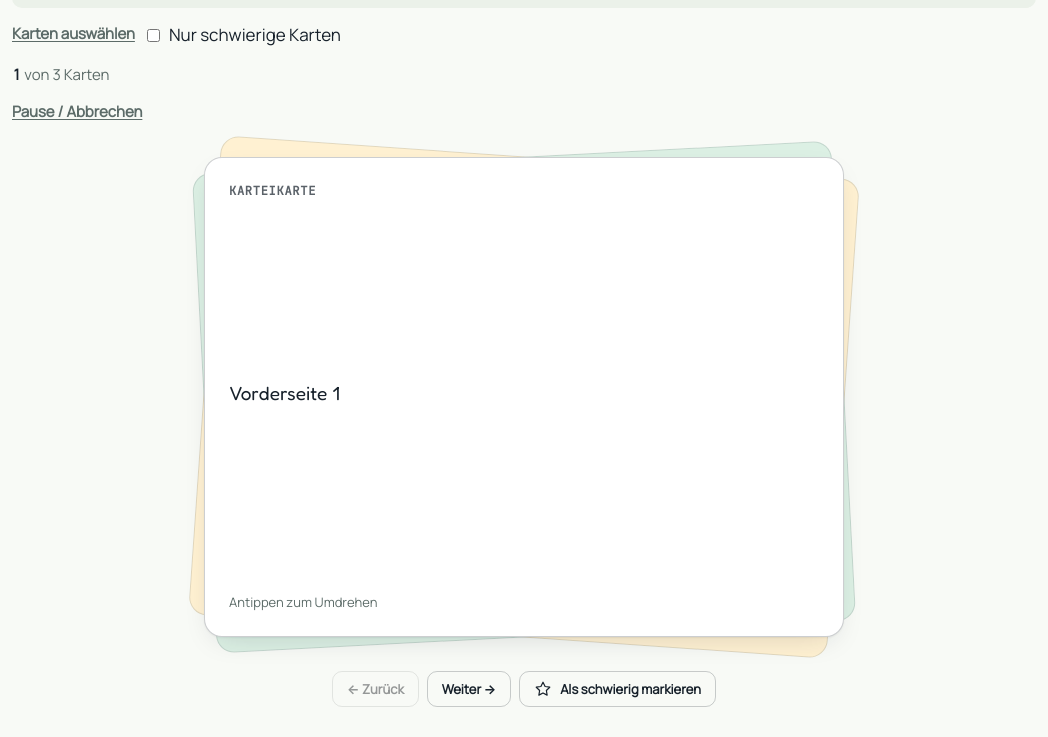
Test: Flashcards (F-110/F-111, nur Karteikarten) › bildet Einfach, Mittel und Schwer auf gewusst, unsicher und nicht_gewusst ab und schließt die Runde ab
The image size is (1048, 737).
Click the text "Vorderseite 1" at (284, 392), box 229,381 -> 340,404
(page scrolled)
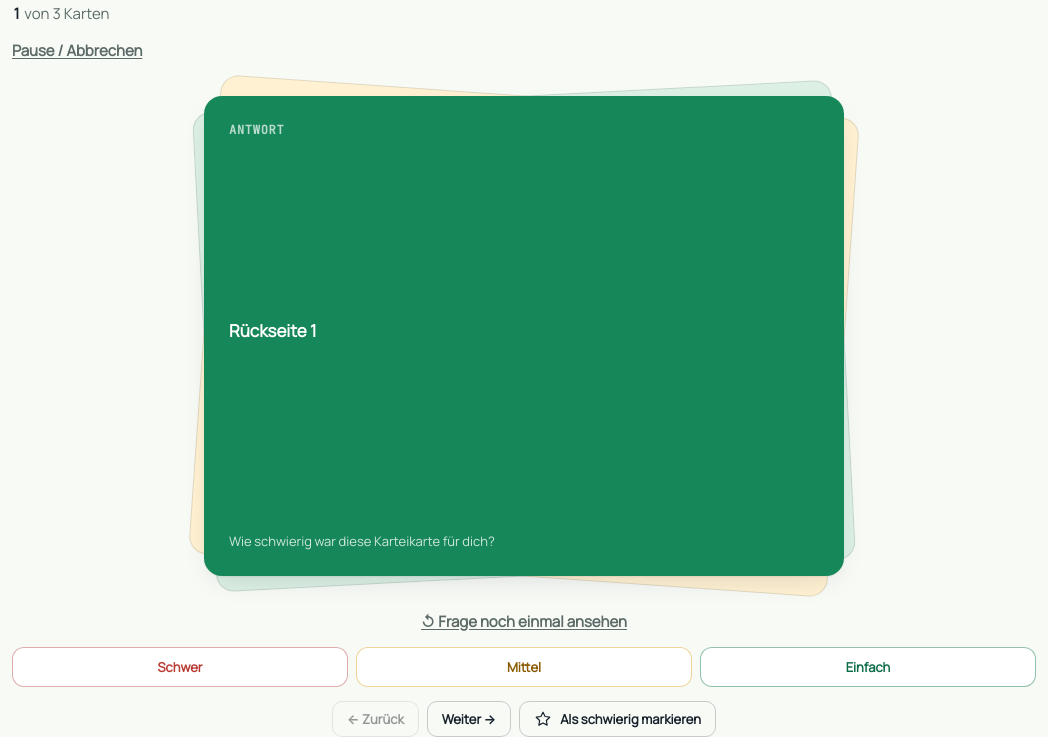
Click the button "Einfach" at (868, 667), box 700,647 -> 1036,687
(page scrolled)
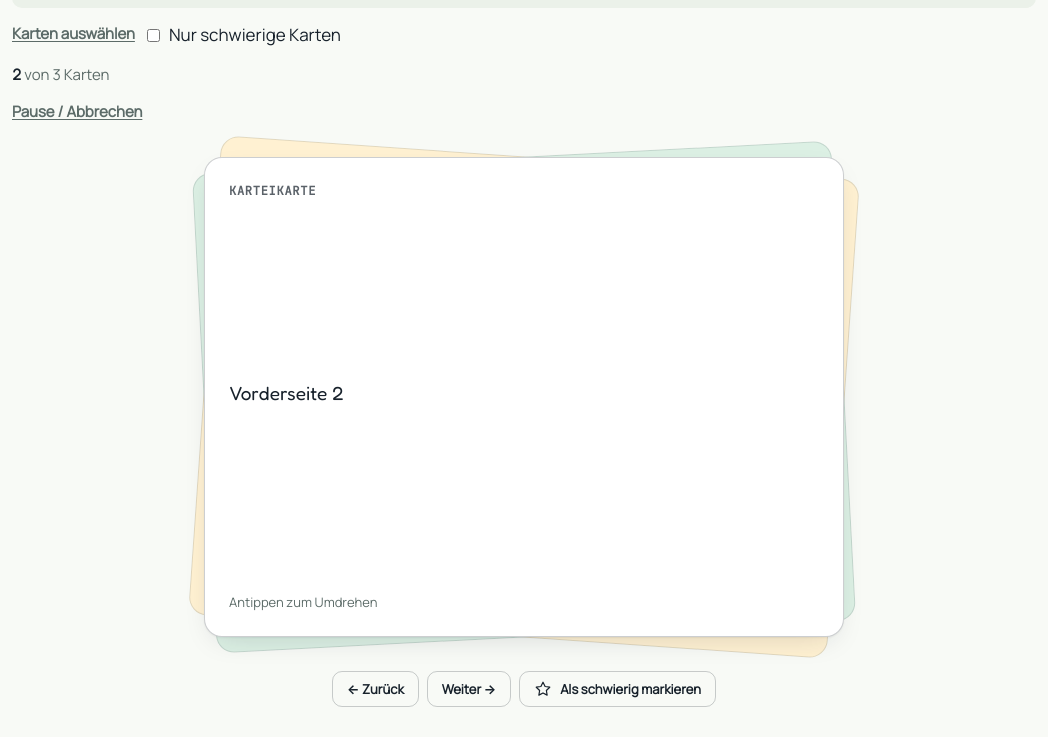
Click the text "Vorderseite 2" at (286, 392), box 229,381 -> 344,404
(page scrolled)
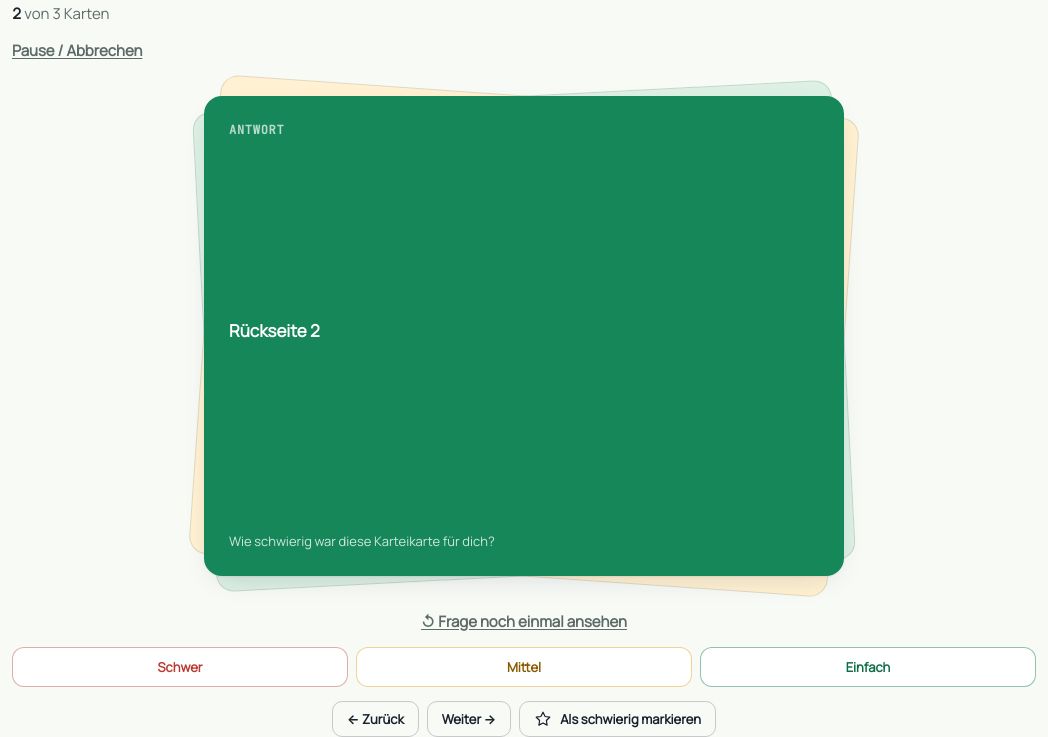
Click the button "Mittel" at (524, 667), box 356,647 -> 692,687
(page scrolled)
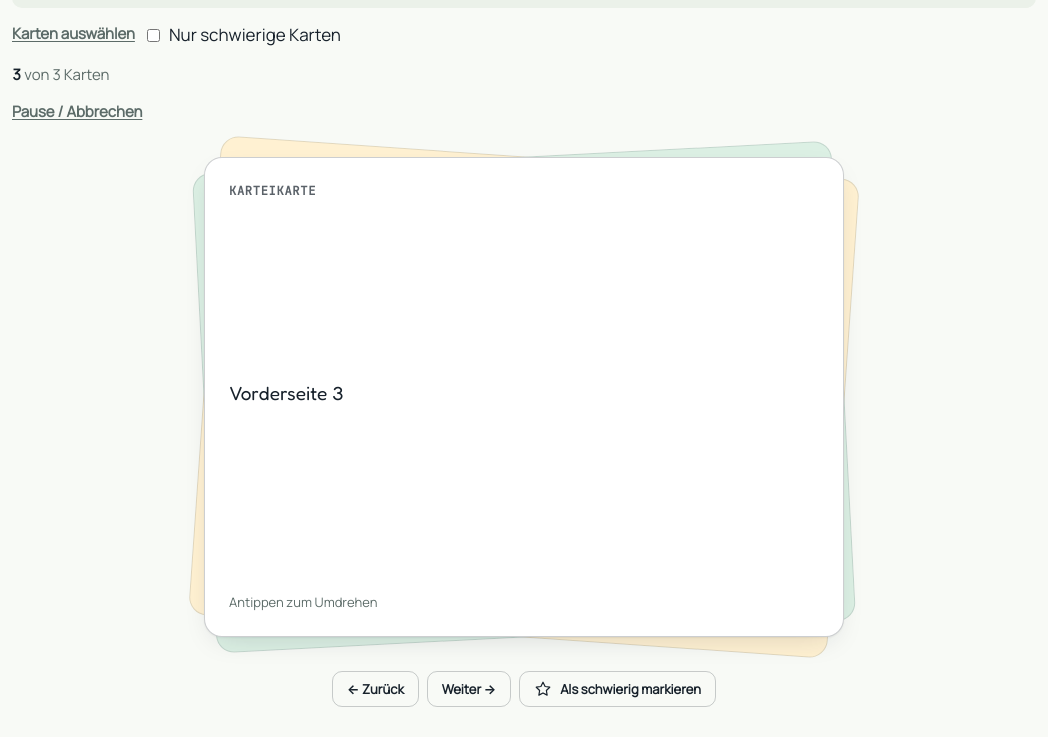
Click the text "Vorderseite 3" at (286, 392), box 229,381 -> 343,404
(page scrolled)
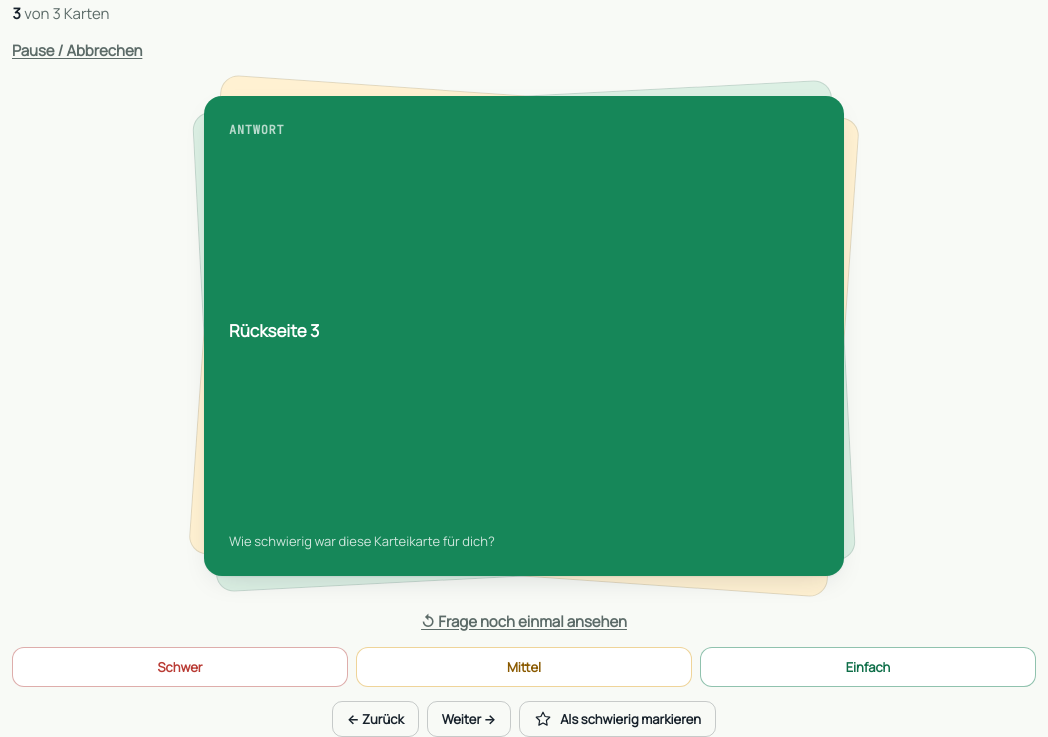
Click the button "Schwer" at (180, 667), box 12,647 -> 348,687
(page scrolled)
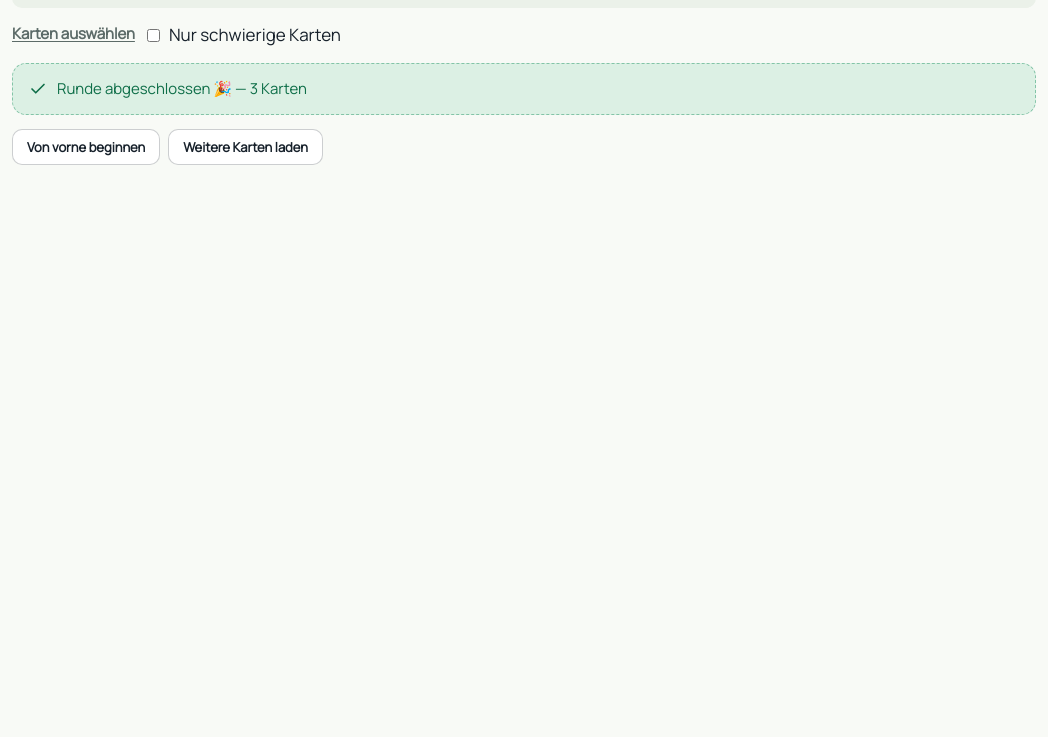
Expected: the text "3 Karten" is shown, 250,78 -> 307,99
Result: the text "Runde abgeschlossen" is shown at 57,78 -> 250,99
